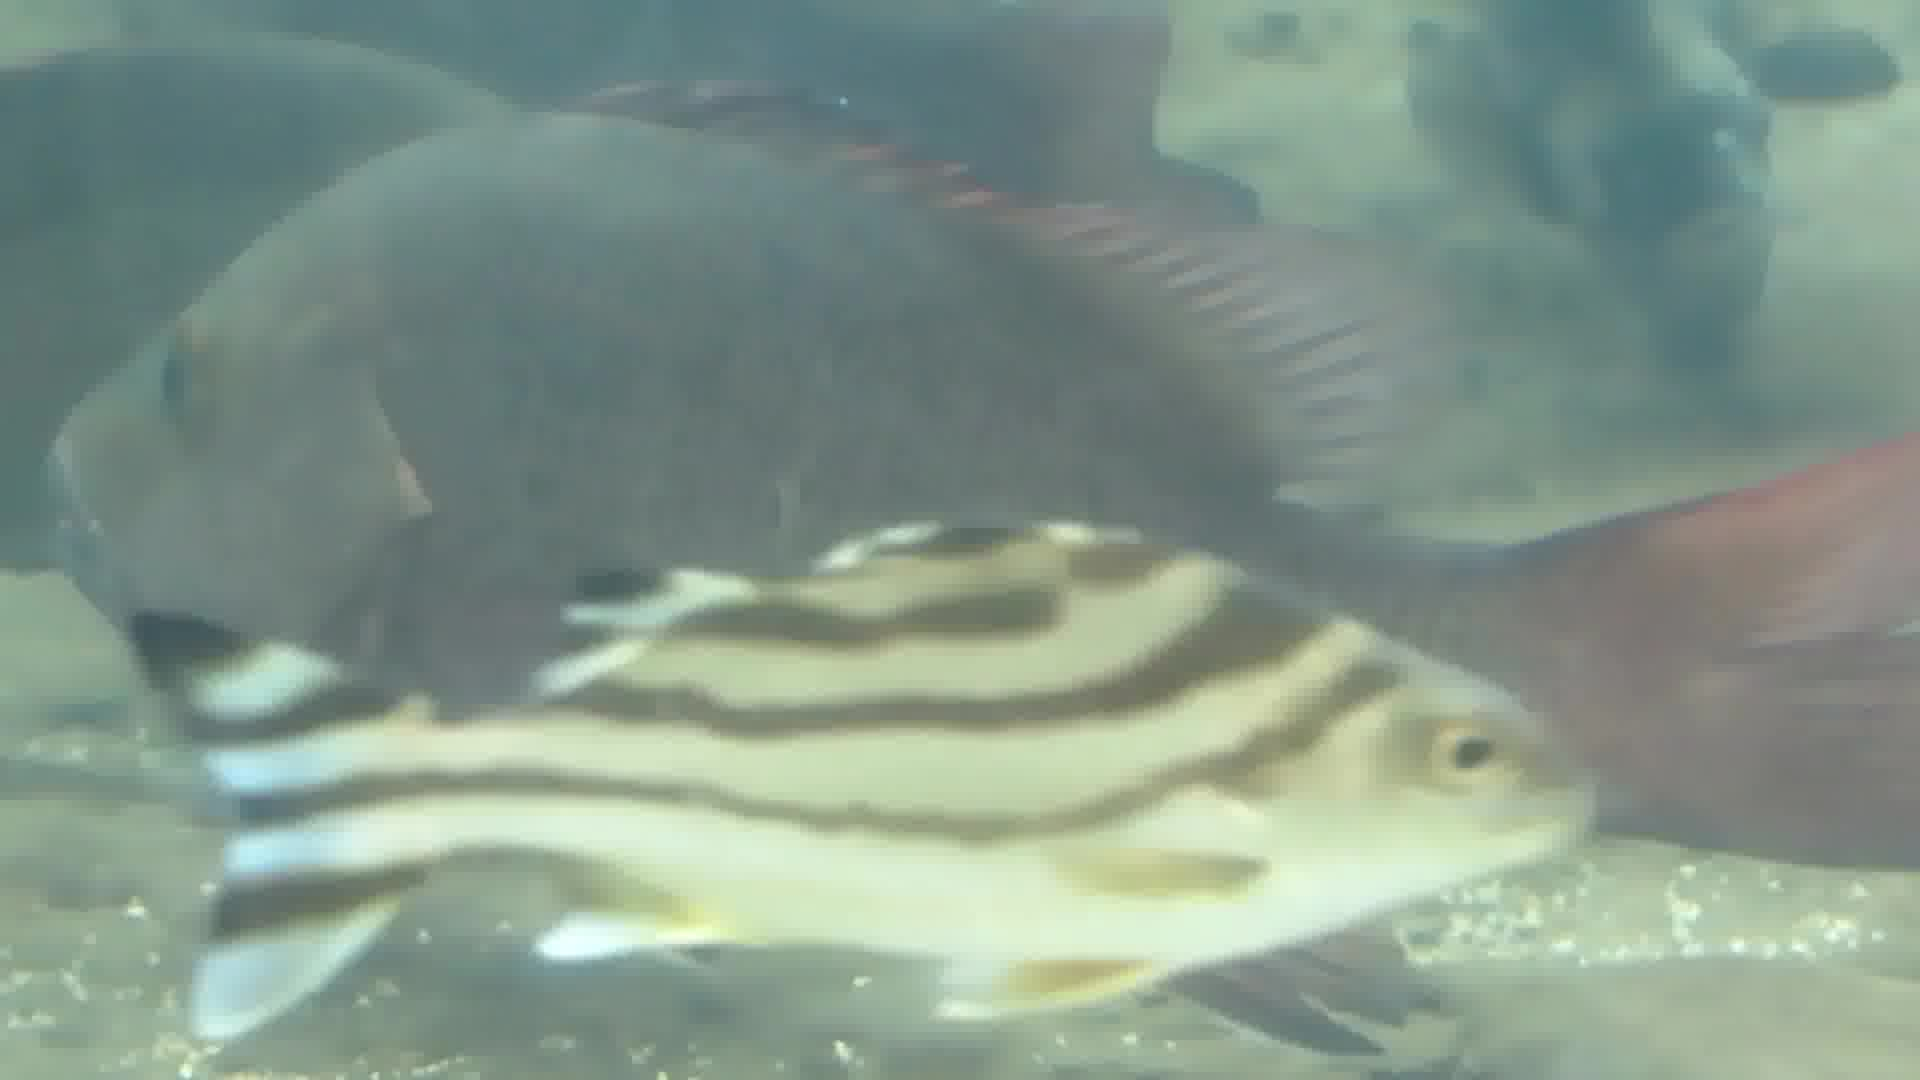Lutjanus argentimaculatus: (65, 123, 1892, 665)
